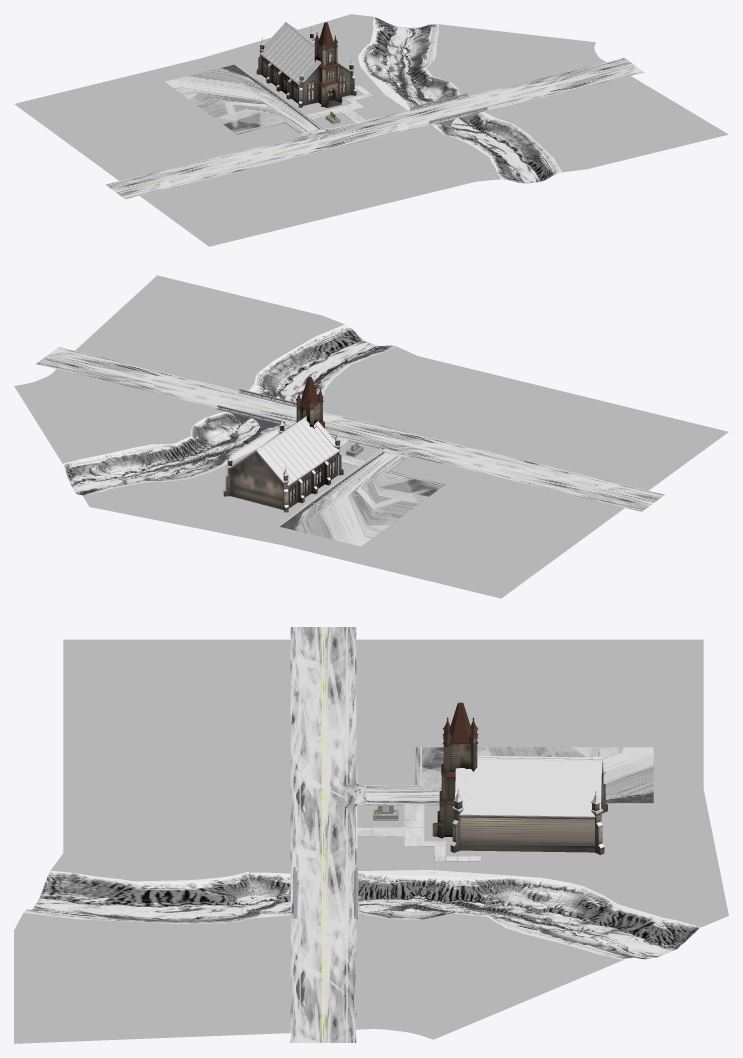
Rendered from ChurchMap1.fbx.
3 views of the same model, one above another, from view 1: azimuth 30°, elevation 25°; view 2: azimuth 150°, elevation 25°; view 3: azimuth 270°, elevation 25° (orthographic). The views are drawn at different scales.
Parts seen in each view (by area): view 1: SM_Church_Ground_01.mo, SM_Church_Road_01.mo, SM_Hometown_Church_01.mo, SM_HometownNM_Church_02.mo, SM_Church_Sidewalk_01.mo, SM_Church_Bridge_01.mo; view 2: SM_Church_Ground_01.mo, SM_Church_Road_01.mo, SM_Hometown_Church_01.mo, SM_HometownNM_Church_02.mo, SM_Church_Bridge_01.mo, SM_Church_Sidewalk_01.mo; view 3: SM_Church_Ground_01.mo, SM_Church_Road_01.mo, SM_Hometown_Church_01.mo, SM_HometownNM_Church_02.mo, SM_Church_Sidewalk_01.mo.
Part boxes in pixels (x1,y1,x2,y2): SM_Church_Ground_01.mo: (14, 14, 728, 246); SM_Church_Road_01.mo: (105, 58, 644, 198); SM_Hometown_Church_01.mo: (256, 22, 356, 107); SM_HometownNM_Church_02.mo: (314, 22, 342, 107); SM_Church_Sidewalk_01.mo: (236, 78, 379, 142); SM_Church_Bridge_01.mo: (410, 93, 487, 125); SM_Church_Ground_01.mo: (14, 275, 728, 598); SM_Church_Road_01.mo: (36, 347, 664, 546); SM_Hometown_Church_01.mo: (223, 416, 343, 512); SM_HometownNM_Church_02.mo: (296, 376, 325, 428); SM_Church_Bridge_01.mo: (217, 389, 296, 427); SM_Church_Sidewalk_01.mo: (300, 435, 443, 509); SM_Church_Ground_01.mo: (14, 639, 728, 1043); SM_Church_Road_01.mo: (290, 627, 653, 1042); SM_Hometown_Church_01.mo: (450, 752, 607, 854); SM_HometownNM_Church_02.mo: (432, 702, 478, 838); SM_Church_Sidewalk_01.mo: (355, 746, 481, 861).
Bounding box in the file's own units: 14454 × 2523 × 10499.
